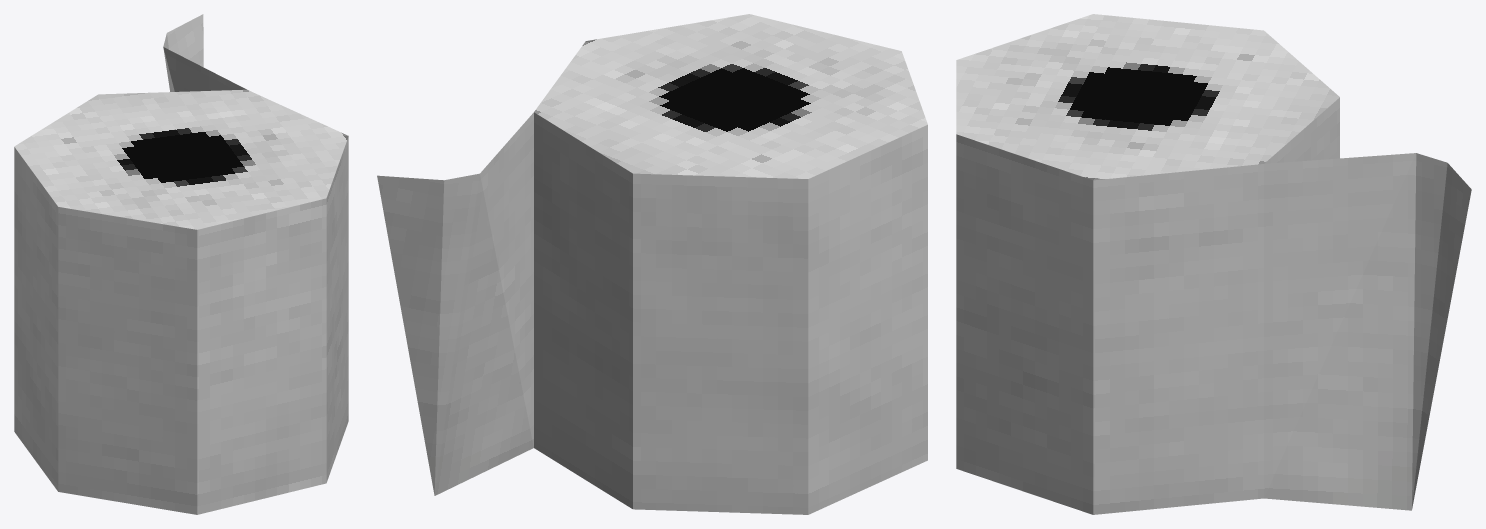
Rendered from toilet_paper.gltf.
The picture shows the model from 3 angles, left to right: view 1: azimuth 30°, elevation 25°; view 2: azimuth 150°, elevation 25°; view 3: azimuth 270°, elevation 25°; orthographic projection. The views are drawn at different scales.
Parts seen in each view (by area): view 1: Toilet paper; view 2: Toilet paper; view 3: Toilet paper.
Boxes of the visible parts, x1,y1,x2,y2 form: Toilet paper: [14, 14, 348, 514]; Toilet paper: [377, 14, 927, 514]; Toilet paper: [956, 14, 1471, 514].
Size of the model in its own units: 0.127 by 0.1129 by 0.1577.
Materials: 1 (1 with a texture image).
